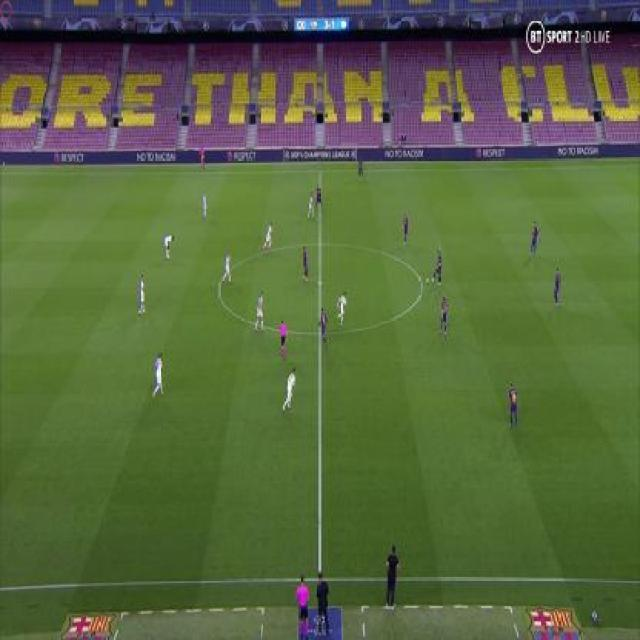player: (150, 349, 167, 403), (279, 367, 299, 412), (507, 380, 520, 433), (550, 265, 563, 311), (335, 291, 351, 327), (254, 290, 267, 333), (438, 293, 451, 336), (431, 246, 444, 288), (278, 315, 289, 363), (162, 229, 176, 263), (319, 305, 330, 347), (529, 219, 540, 258), (264, 221, 277, 254), (399, 211, 410, 247), (138, 273, 147, 315), (222, 250, 233, 284), (199, 188, 210, 221), (302, 243, 311, 283), (315, 182, 323, 213), (356, 153, 364, 184), (306, 191, 314, 220)
